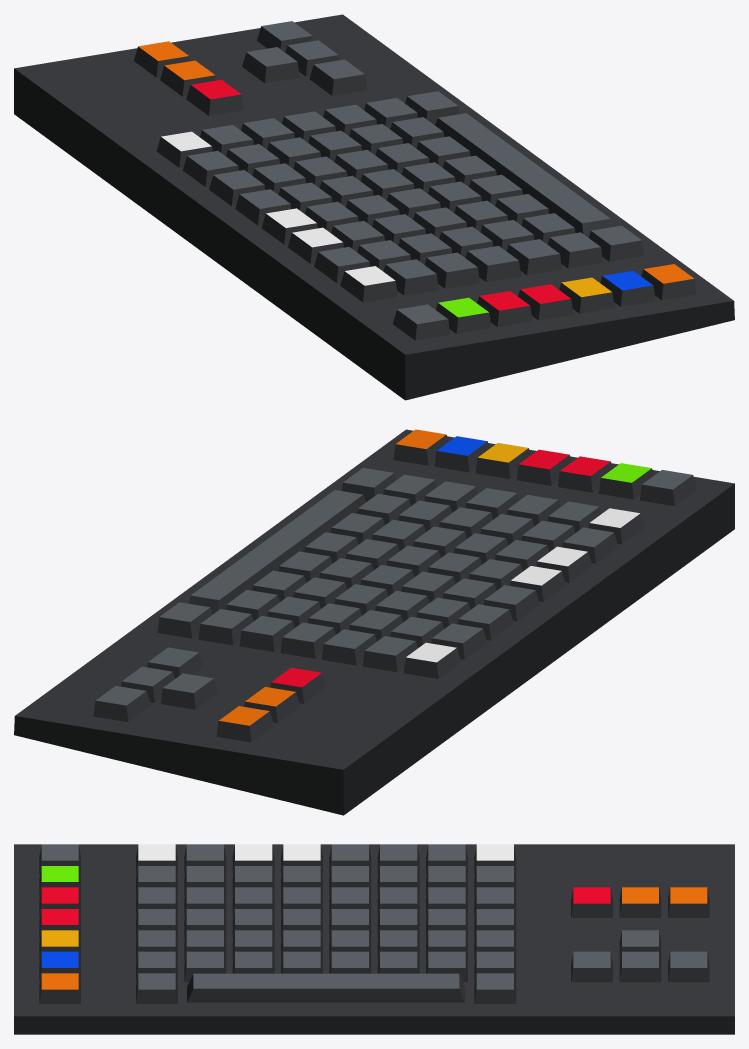
Rendered from Keyboard.fbx.
3 renders of one model, top to bottom at view 1: azimuth 30°, elevation 25°; view 2: azimuth 150°, elevation 25°; view 3: azimuth 270°, elevation 25°, orthographic. The views are drawn at different scales.
Parts seen in each view (by area): view 1: Keyboard; view 2: Keyboard; view 3: Keyboard.
Part boxes in pixels (<box>): Keyboard: <box>14,14,734,400</box>; Keyboard: <box>14,429,734,815</box>; Keyboard: <box>14,844,734,1034</box>.
Bounding box in the file's own units: 28.21 × 4.8 × 57.97.
